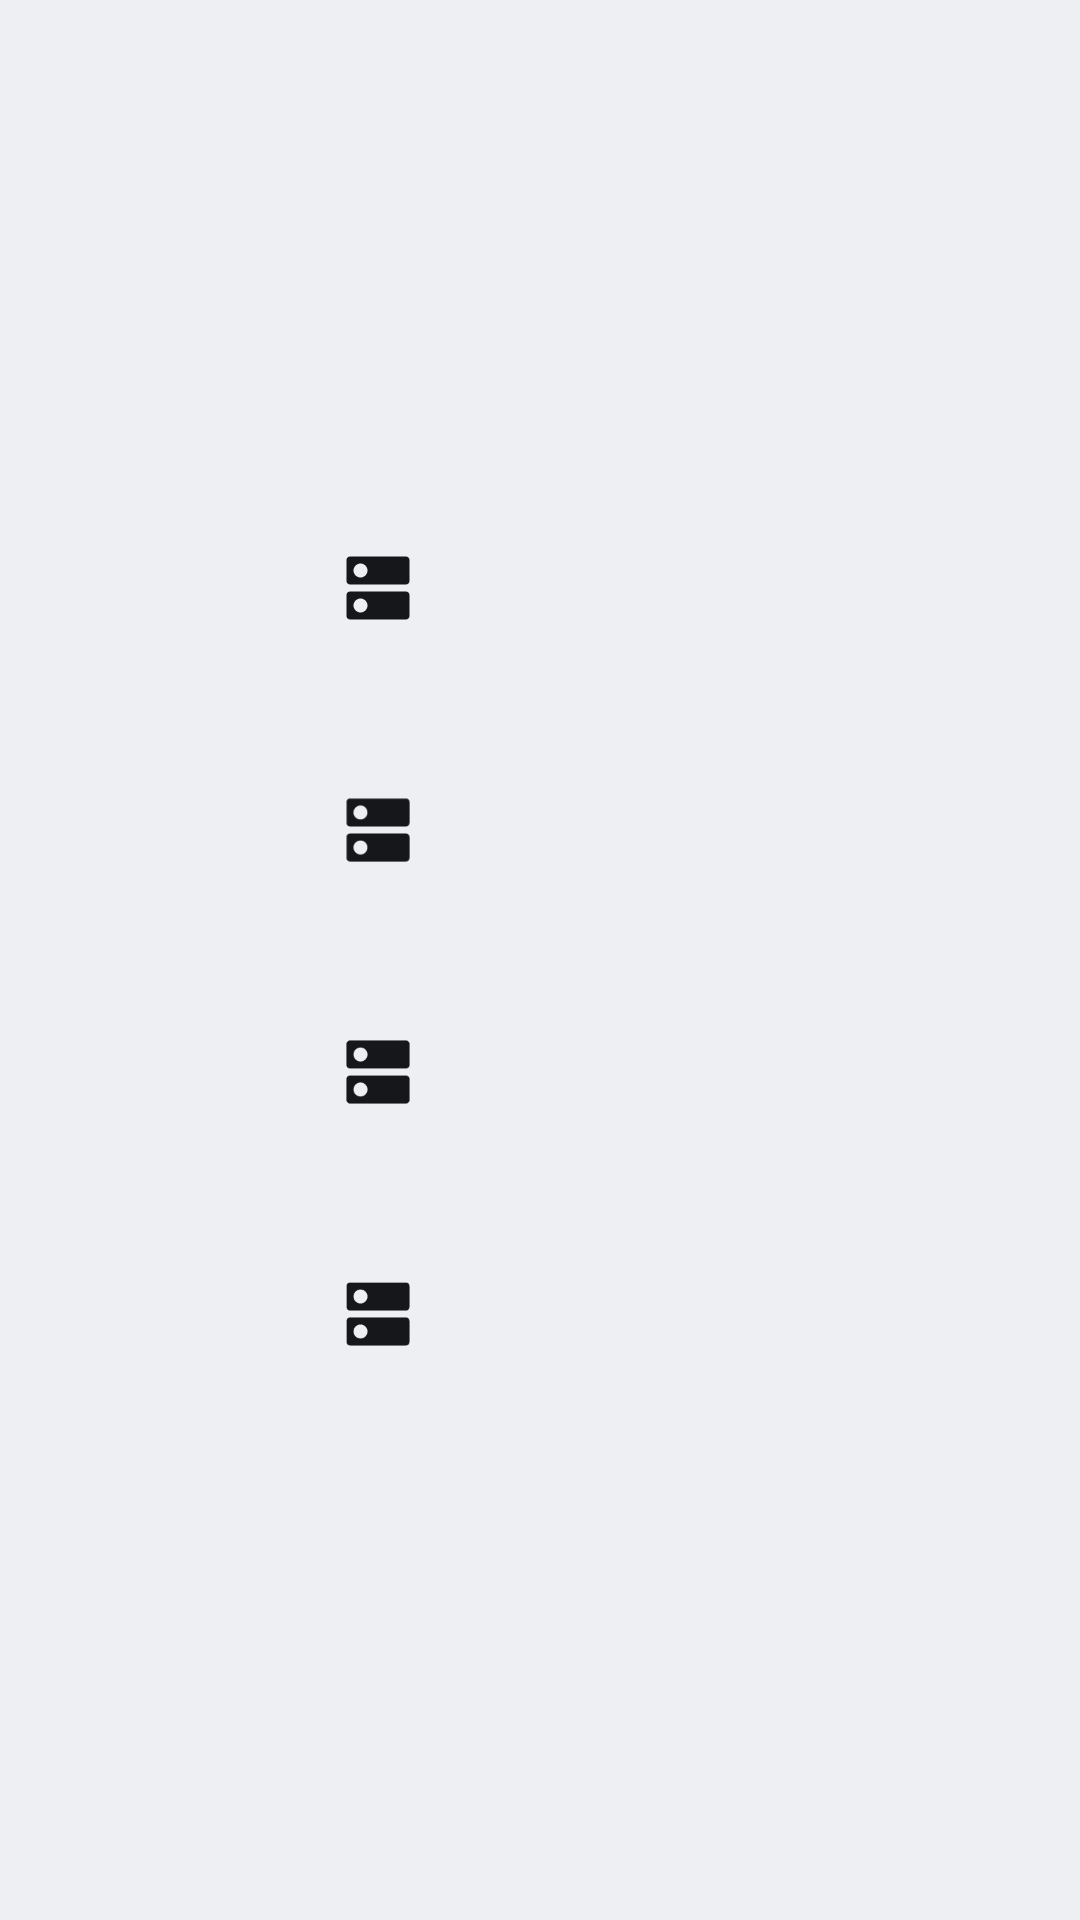

Named icons in this screenshot (1080px x 1920px) and their bounding boxes, (x1, y1, x2, y2):
server: (346, 556, 410, 620), (346, 798, 410, 862), (346, 1040, 410, 1104), (346, 1282, 410, 1346)
